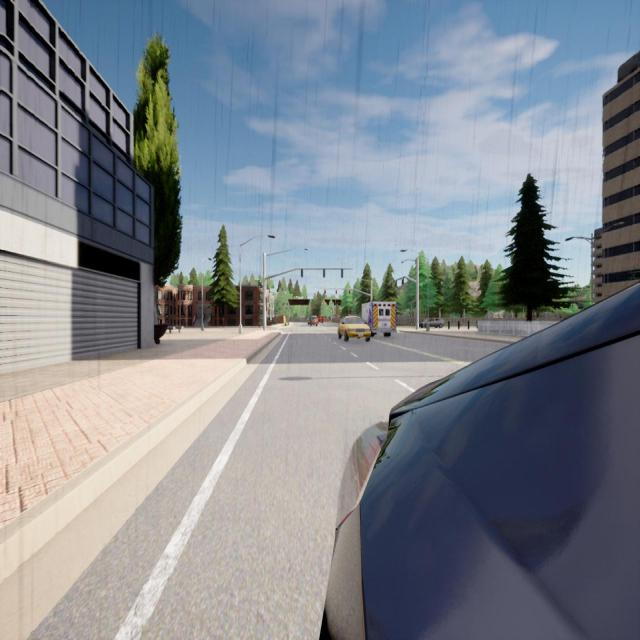Vehicle: (326, 284, 640, 638), (362, 301, 396, 336), (338, 316, 370, 341), (421, 318, 444, 327), (310, 316, 318, 326), (319, 316, 324, 324)
traffic_light: (341, 269, 343, 278), (301, 269, 303, 277), (323, 269, 325, 277), (395, 280, 397, 286), (402, 278, 404, 284), (324, 290, 326, 294), (415, 298, 416, 304), (336, 290, 337, 293), (349, 290, 350, 293)
